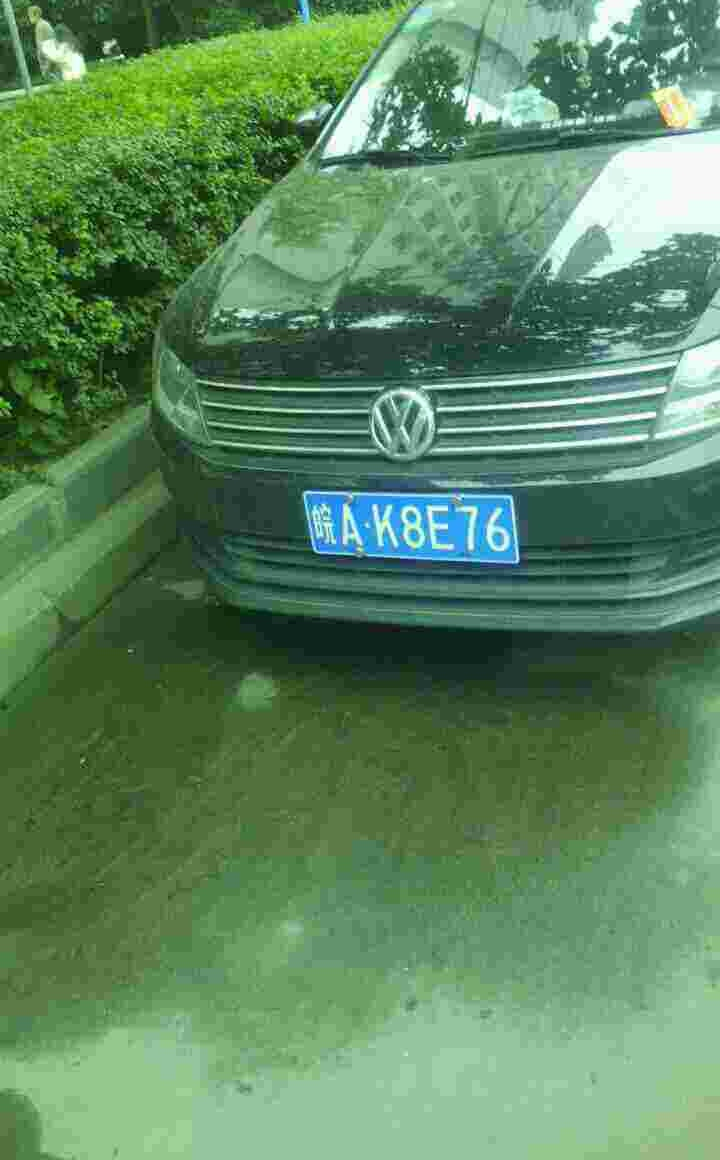license_plate: (304, 491, 511, 563)
